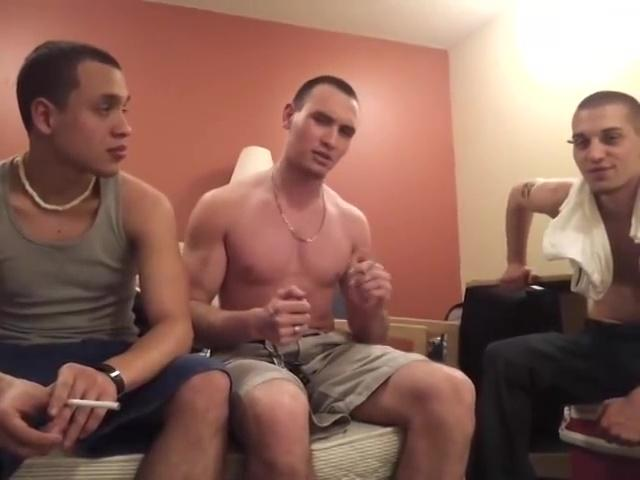cigarette: (65, 397, 125, 412)
